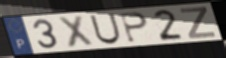2: (152, 9, 187, 43)
3: (31, 18, 59, 51)
P: (119, 11, 150, 44)
U: (88, 12, 123, 46)
X: (57, 14, 96, 50)
Z: (179, 6, 219, 40)
